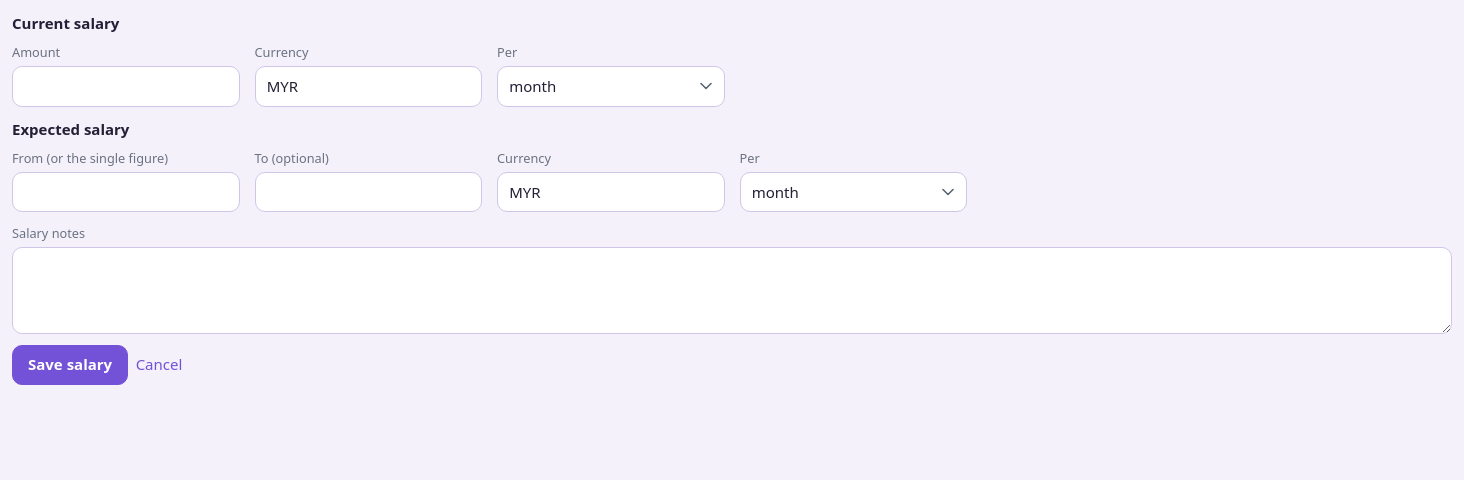
Scenario: salary form › refuses RM as a currency, with the message next to the currency
Type "8500" into the field labelled "Amount" at (126, 86), box x1=12 y1=66 x2=240 y2=107
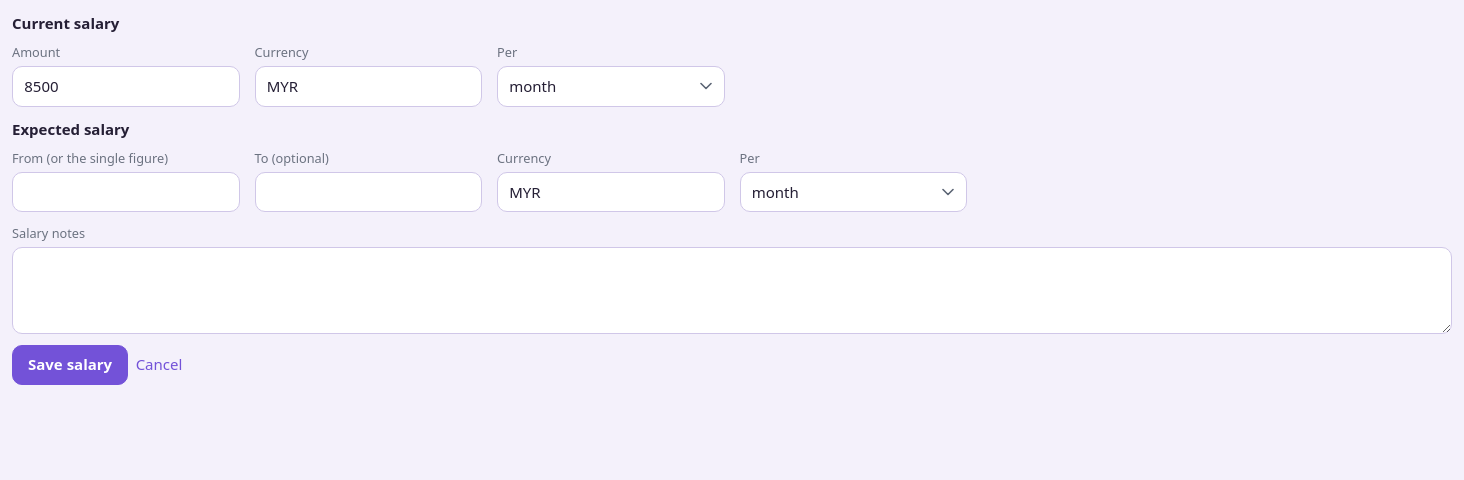
Replace the text in the field labelled "Currency" below "Amount" with "RM" at (368, 86), box x1=254 y1=66 x2=482 y2=107
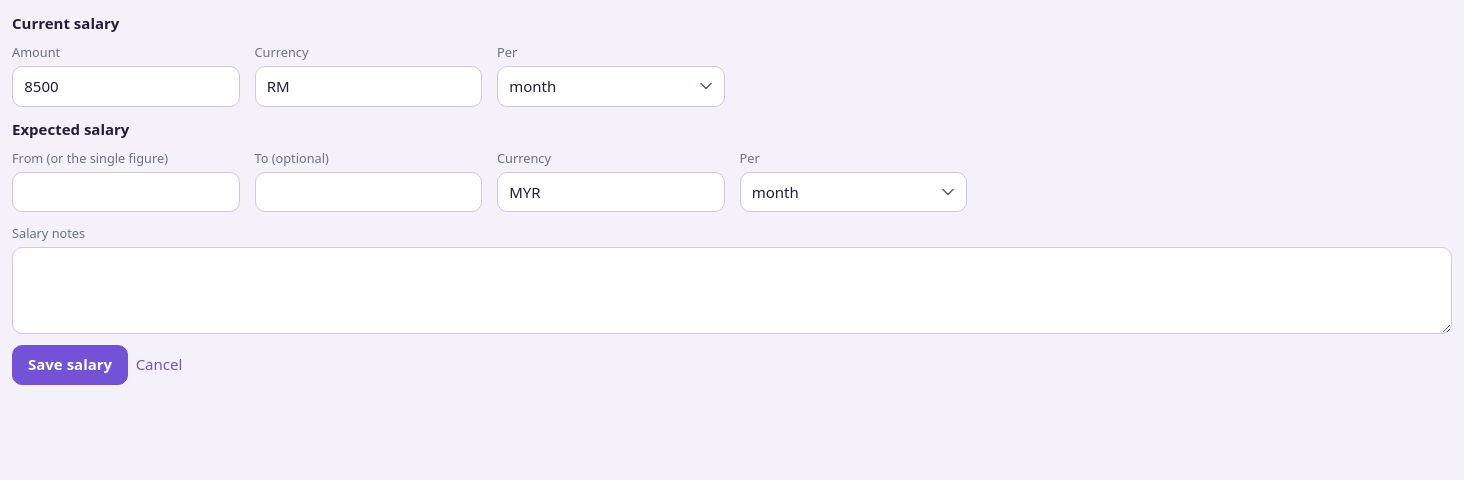
Click the button "Save salary" at (70, 365), box x1=12 y1=345 x2=128 y2=385
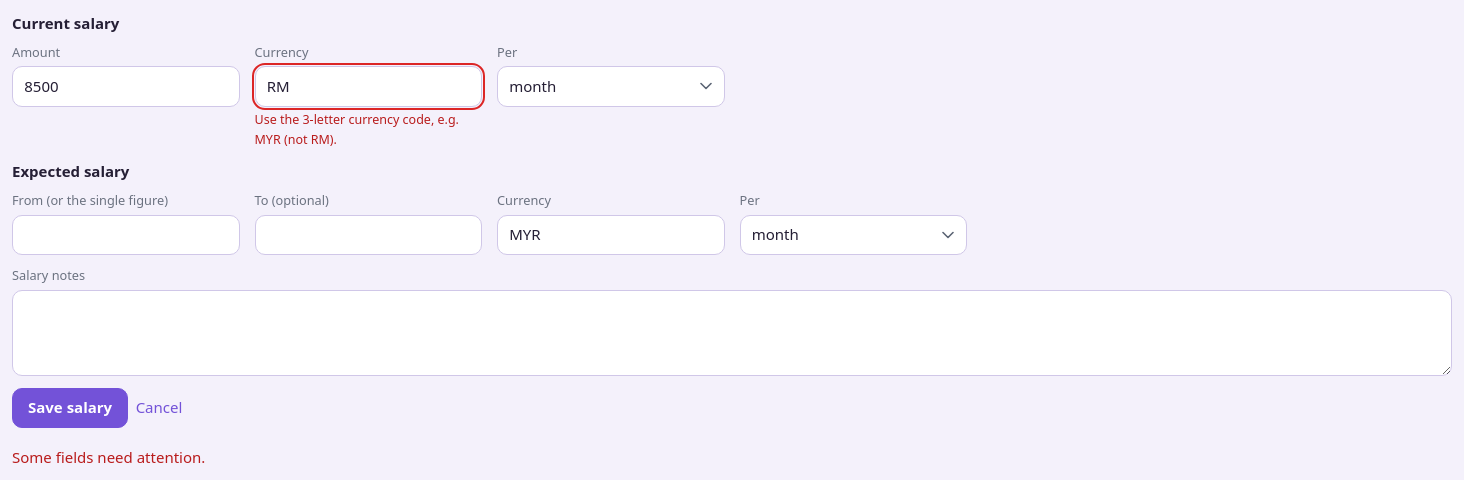
Check: the text with class "error" shows "3-letter currency code", box x1=254 y1=111 x2=459 y2=148
